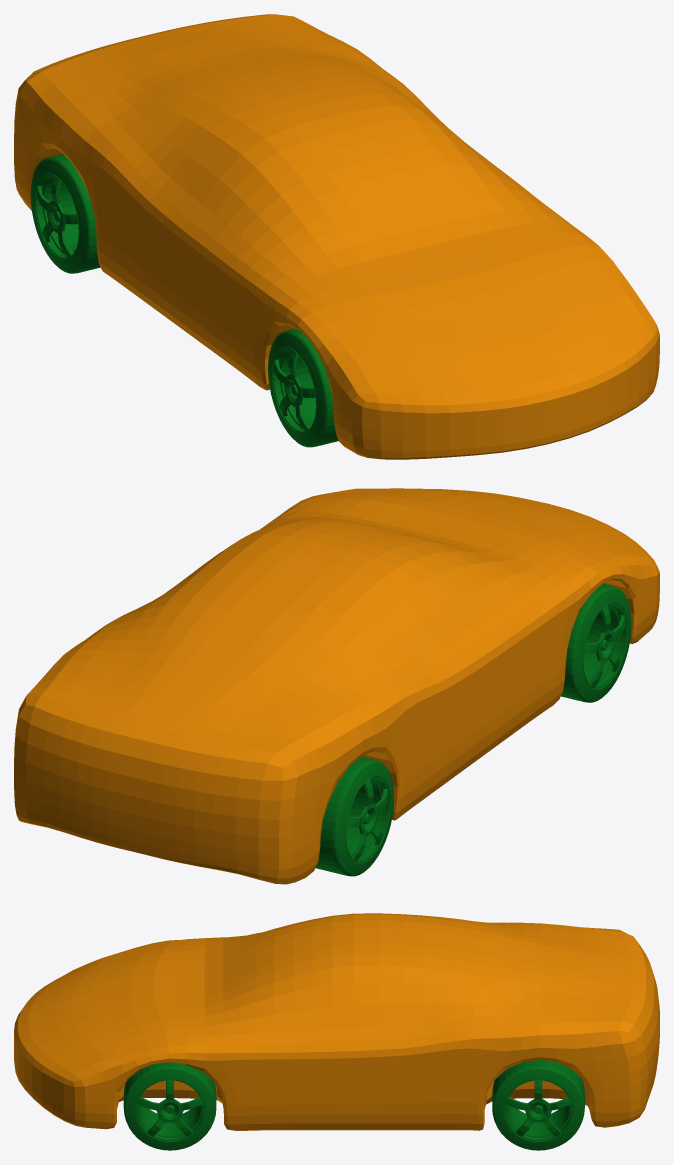
The model's file is auto.obj.
3 renders of one model, top to bottom at view 1: azimuth 30°, elevation 25°; view 2: azimuth 150°, elevation 25°; view 3: azimuth 270°, elevation 25°, orthographic. The views are drawn at different scales.
Visible parts, largest first — view 1: carBody_1, wheels_0; view 2: carBody_1, wheels_0; view 3: carBody_1, wheels_0.
Boxes of the visible parts, x1,y1,x2,y2 form: carBody_1: (14, 14, 659, 459); wheels_0: (30, 154, 338, 447); carBody_1: (14, 488, 659, 884); wheels_0: (315, 584, 631, 876); carBody_1: (14, 913, 659, 1130); wheels_0: (123, 1059, 584, 1150).
Bounding box in the file's own units: 3.23 × 1.97 × 7.3.
Materials: 2 (2 with a texture image).
